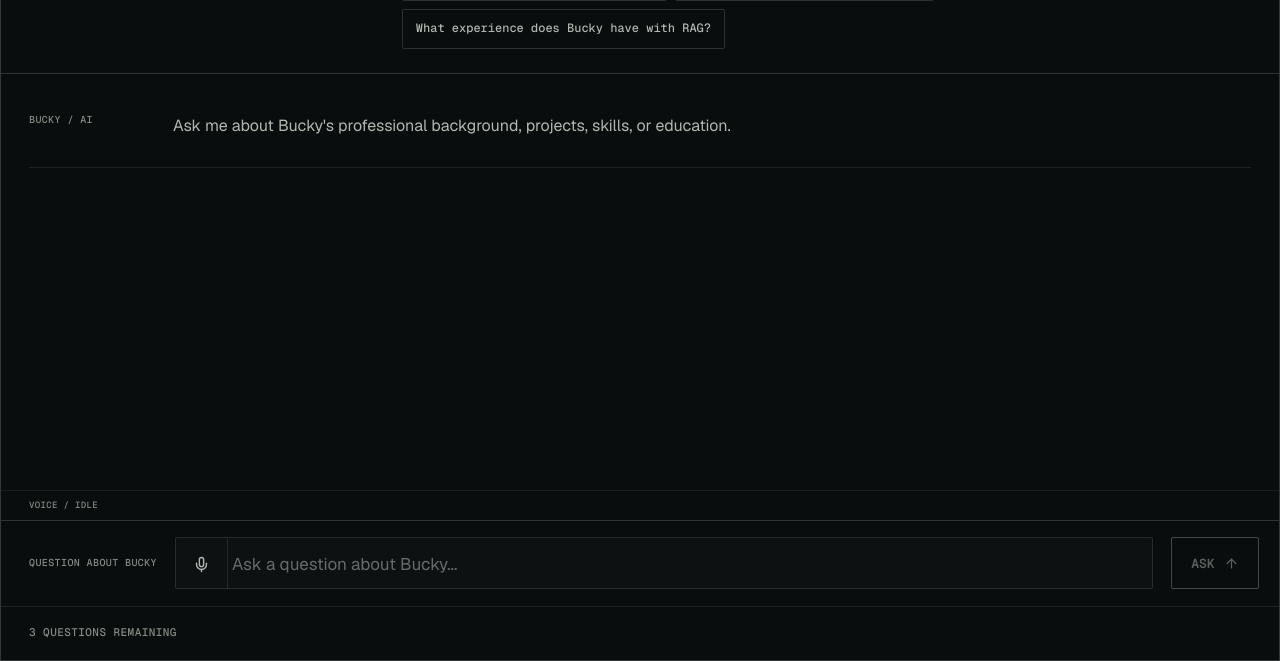
Test case: AskBucky session usage › does not count a invalid request
(page scrolled)
Type "A professional question about Bucky" into the field labelled "Question about Bucky" at [690, 564], box [228,538,1152,590]
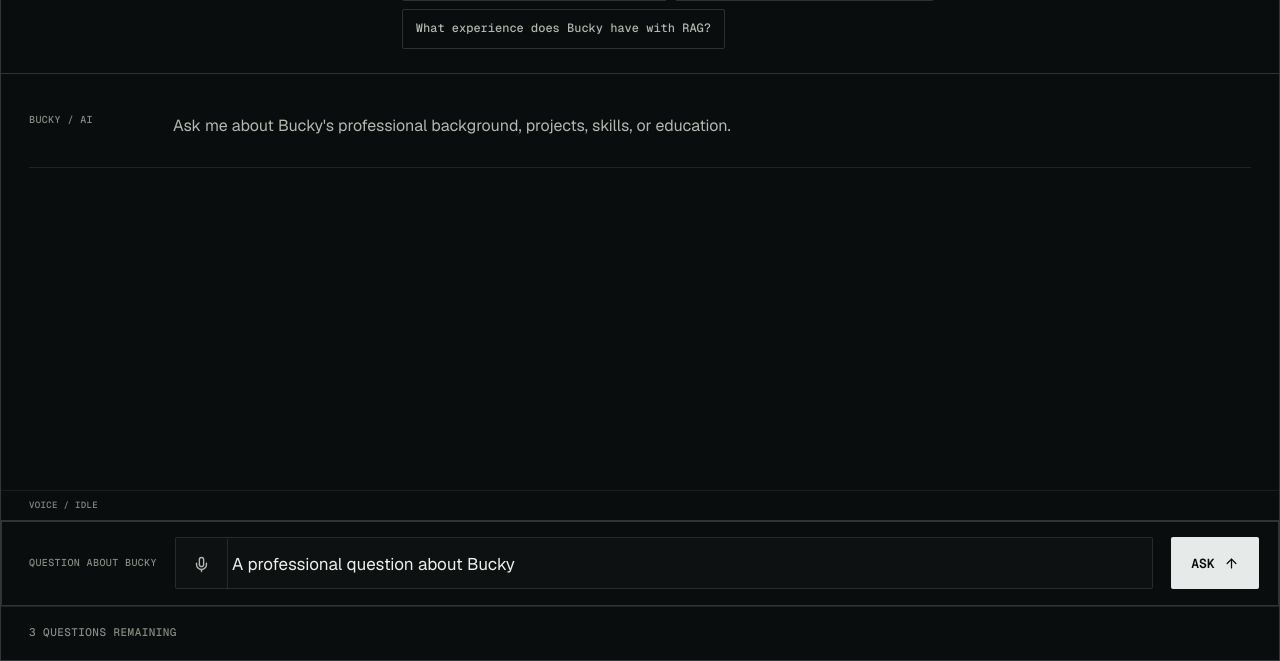
Click the button with aria-label "Send question to Ask Bucky AI" at [1215, 563], box [1171,537,1259,589]
(page scrolled)
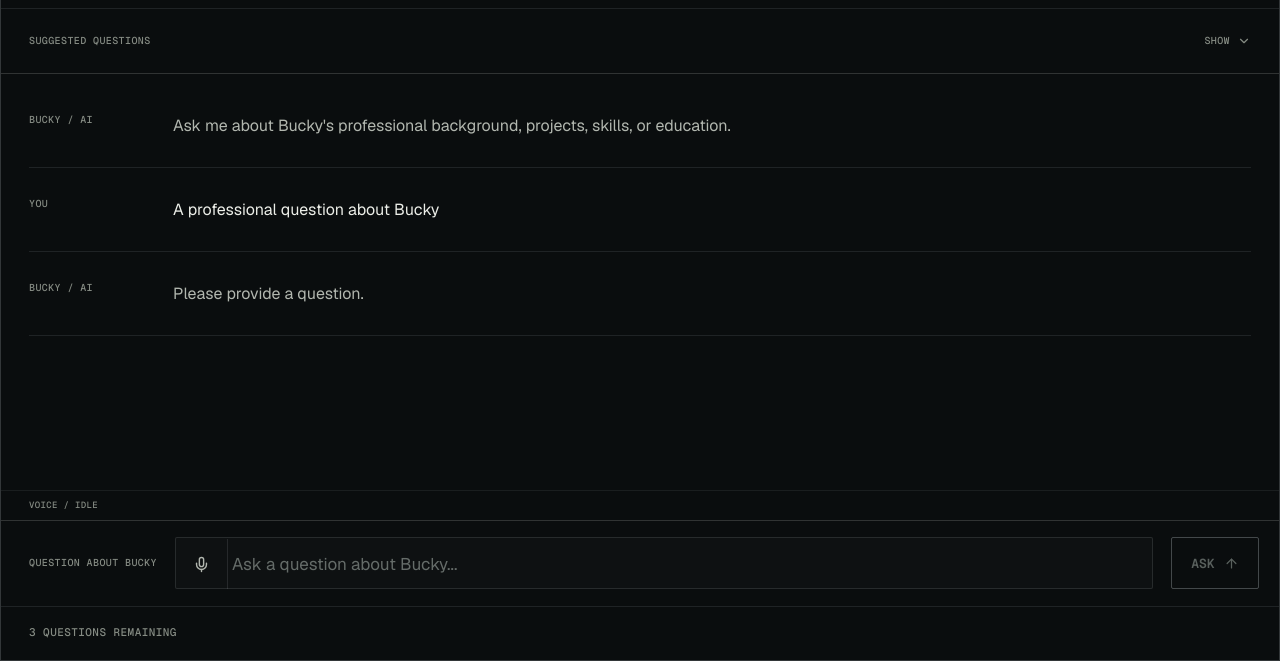
Expected: the text "3 questions remaining" is shown, [29,625,177,641]
Expected: the text "Please provide a question." is shown, [173,283,364,304]
